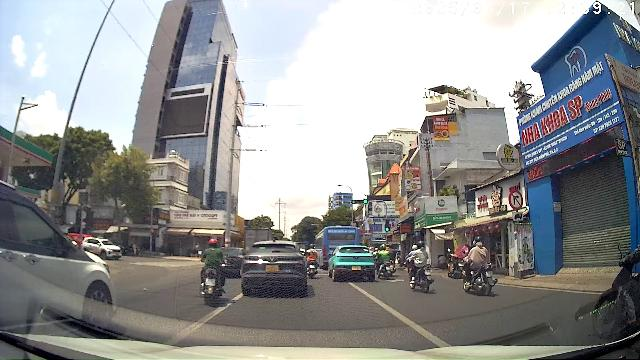123b-cam-re-phai: (508, 190, 524, 210)
